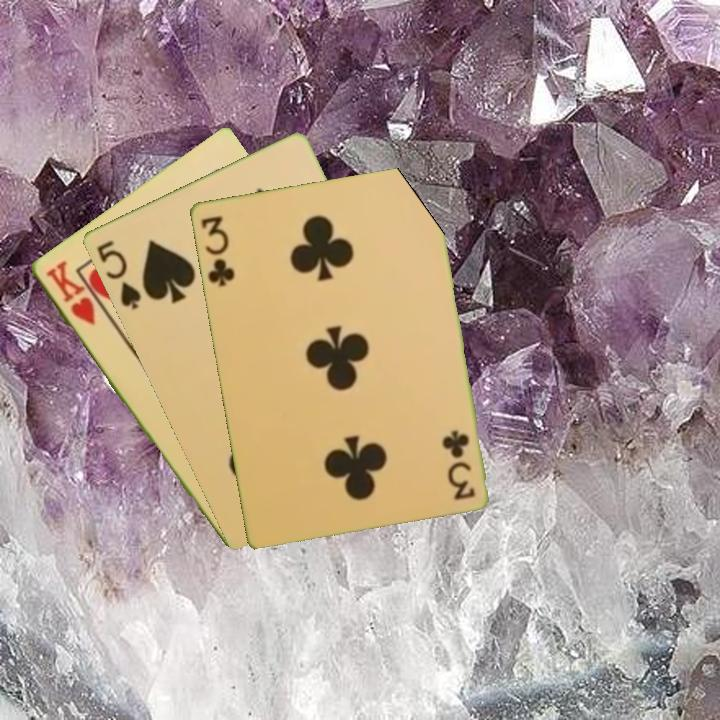3c: (197, 211, 237, 289), (441, 426, 477, 503)
5s: (92, 236, 144, 313)
Kh: (41, 257, 98, 328)
